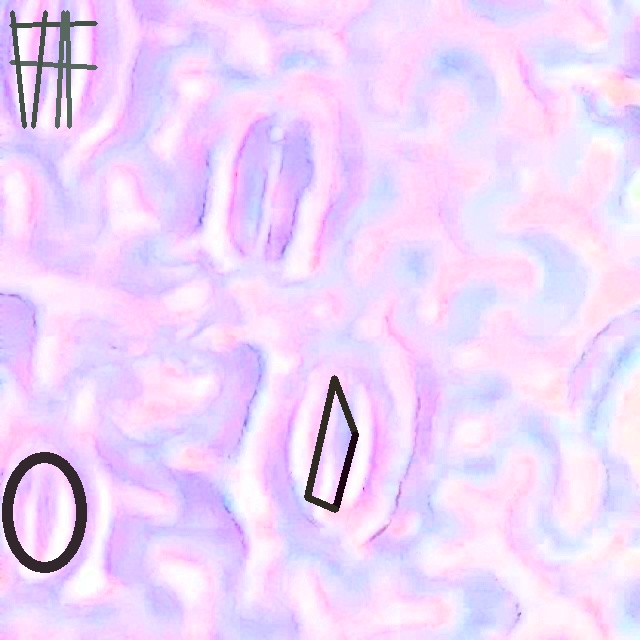close: (9, 10, 97, 128), (3, 452, 86, 572), (304, 375, 358, 512)
